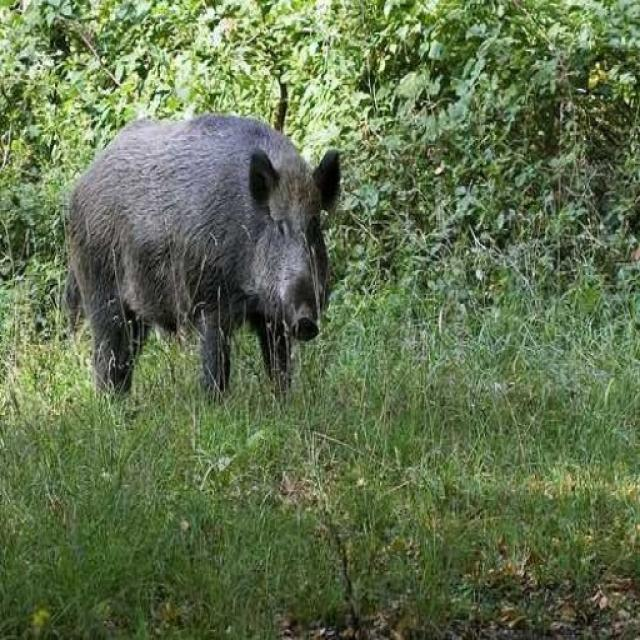pig: (38, 74, 395, 454)
